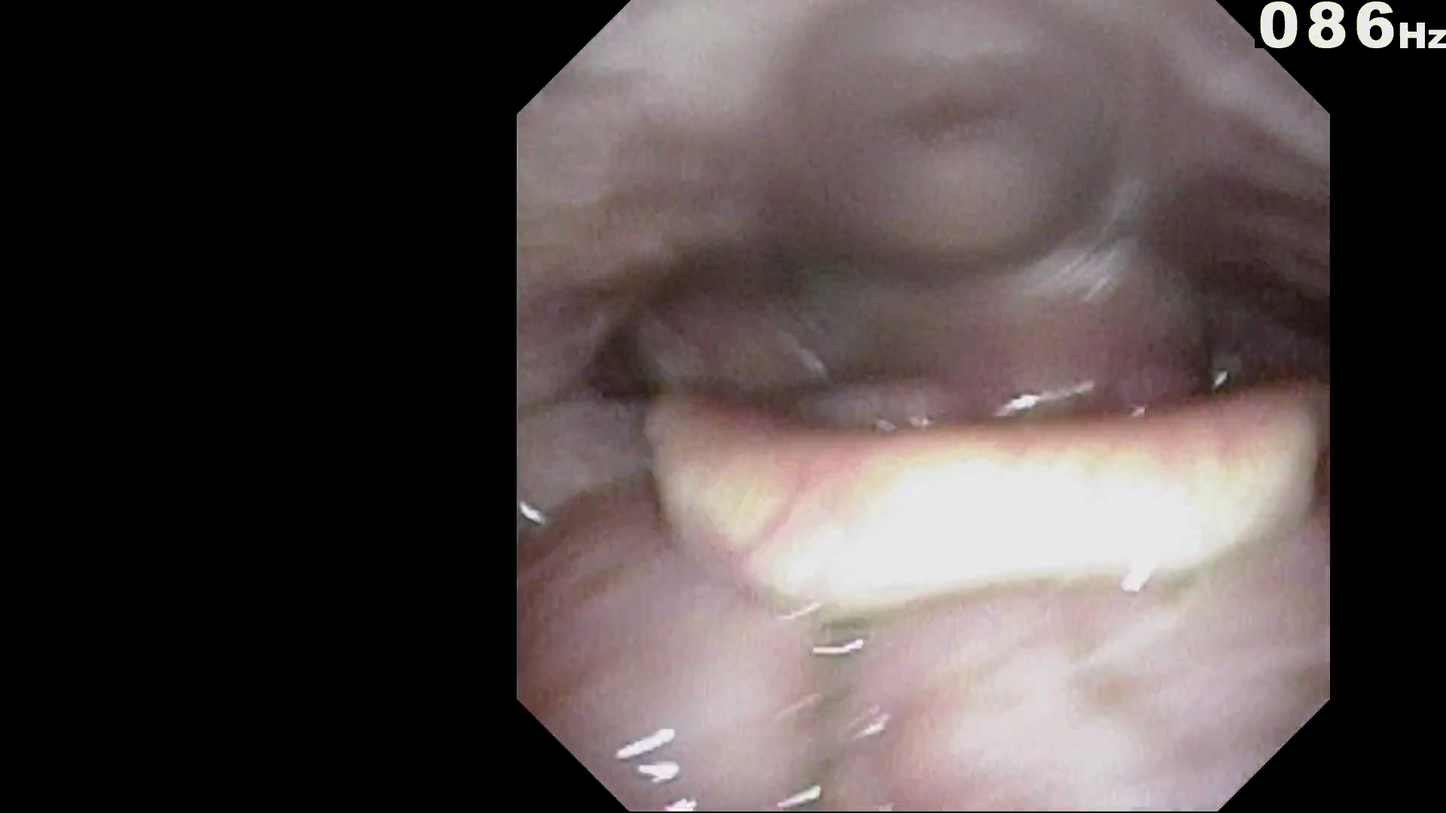epiglottis: (651, 414, 1266, 639)
trachea: (936, 494, 1082, 608)
